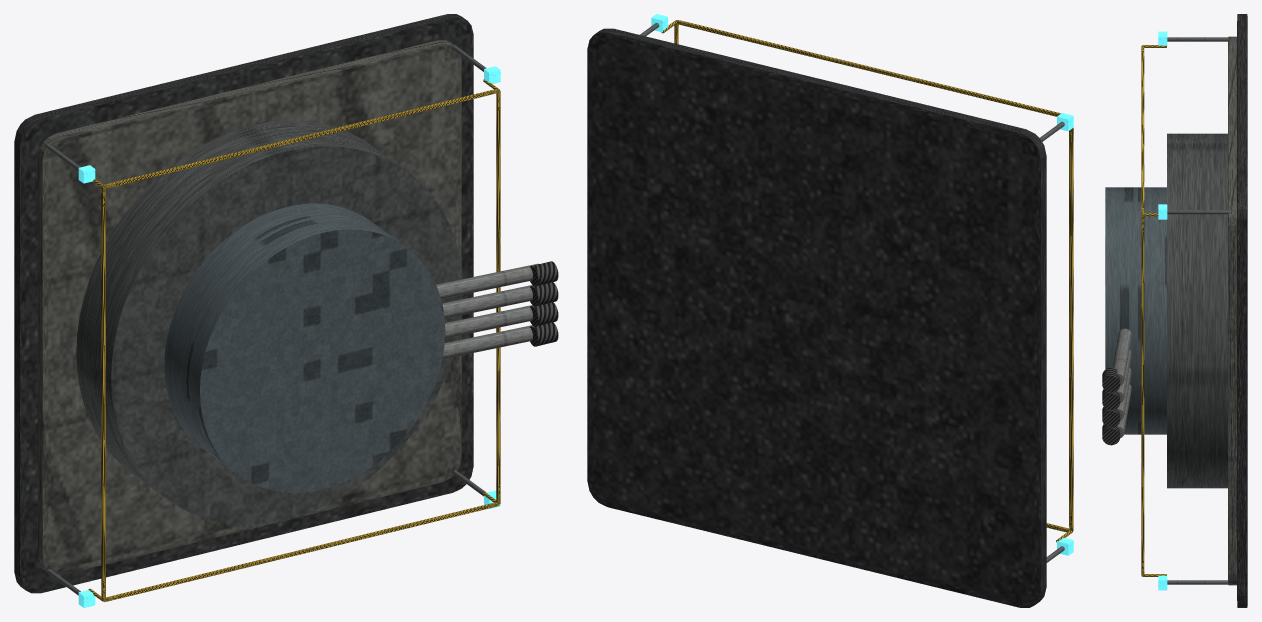
Rendered from b-29-autocannon-turret-lod0.glb.
3 renders of one model, left to right at view 1: azimuth 30°, elevation 25°; view 2: azimuth 150°, elevation 25°; view 3: azimuth 270°, elevation 25°, orthographic. The views are drawn at different scales.
Parts seen in each view (by area): view 1: foundation_inner_pad, primary_turret_yaw, turret_base, foundation, turret_service_railing_rail_x_3.7, turret_service_railing_rail_x_-3.7, turret_service_railing_rail_y_-3.7, turret_service_railing_rail_y_3.7, autocannon_barrel_3, autocannon_barrel_2, autocannon_barrel_0, autocannon_barrel_1; view 2: foundation, turret_service_railing_rail_x_3.7, turret_service_railing_rail_y_-3.7; view 3: turret_base, primary_turret_yaw, foundation, foundation_inner_pad, turret_service_railing_rail_y_3.7, turret_service_railing_rail_x_3.7, autocannon_barrel_3, autocannon_muzzle_3, autocannon_muzzle_0, autocannon_muzzle_1, autocannon_muzzle_2, perimeter_light_3.8_3.8 (+5 smaller).
Part boxes in pixels (x1,y1,x2,y2): foundation_inner_pad: (37, 40, 461, 575); primary_turret_yaw: (164, 203, 445, 492); turret_base: (76, 120, 462, 524); foundation: (14, 14, 473, 593); turret_service_railing_rail_x_3.7: (103, 89, 499, 188); turret_service_railing_rail_x_-3.7: (103, 502, 499, 601); turret_service_railing_rail_y_-3.7: (101, 187, 105, 600); turret_service_railing_rail_y_3.7: (496, 90, 500, 504); autocannon_barrel_3: (436, 263, 538, 299); autocannon_barrel_2: (442, 285, 532, 318); autocannon_barrel_0: (442, 325, 532, 358); autocannon_barrel_1: (445, 305, 532, 338); foundation: (587, 28, 1046, 607); turret_service_railing_rail_x_3.7: (676, 20, 1060, 116); turret_service_railing_rail_y_-3.7: (1069, 128, 1073, 531); turret_base: (1167, 133, 1227, 488); primary_turret_yaw: (1105, 187, 1166, 434); foundation: (1237, 14, 1247, 607); foundation_inner_pad: (1228, 36, 1236, 585); turret_service_railing_rail_y_3.7: (1141, 214, 1144, 575); turret_service_railing_rail_x_3.7: (1141, 45, 1144, 214); autocannon_barrel_3: (1113, 328, 1131, 385); autocannon_muzzle_3: (1102, 367, 1120, 392); autocannon_muzzle_0: (1102, 424, 1120, 445); autocannon_muzzle_1: (1102, 406, 1120, 427); autocannon_muzzle_2: (1102, 389, 1120, 409); perimeter_light_3.8_3.8: (1167, 210, 1231, 214).
Size of what is drawn, in the model's own units: 8.64 by 8.5 by 2.71.
9 materials, 9 textured.
